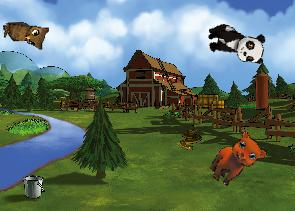bear: (204, 125, 271, 196)
owl: (2, 22, 49, 50)
panda: (203, 21, 268, 66)
